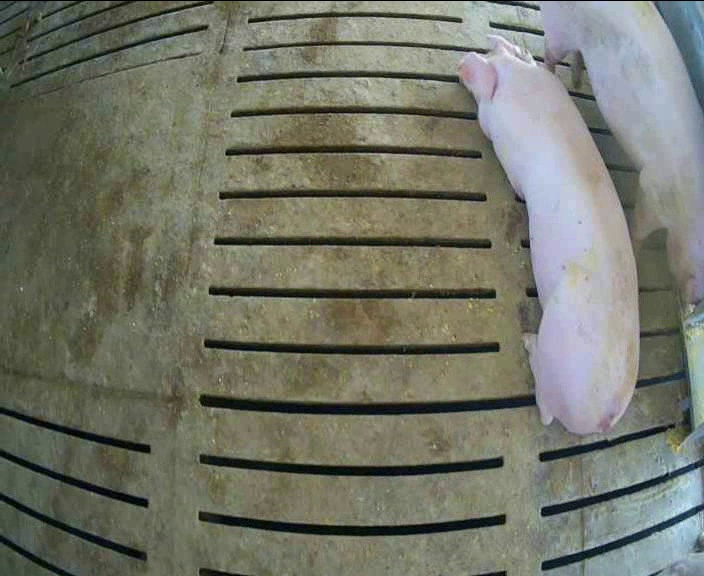pig: (458, 35, 638, 433), (543, 3, 703, 301)
